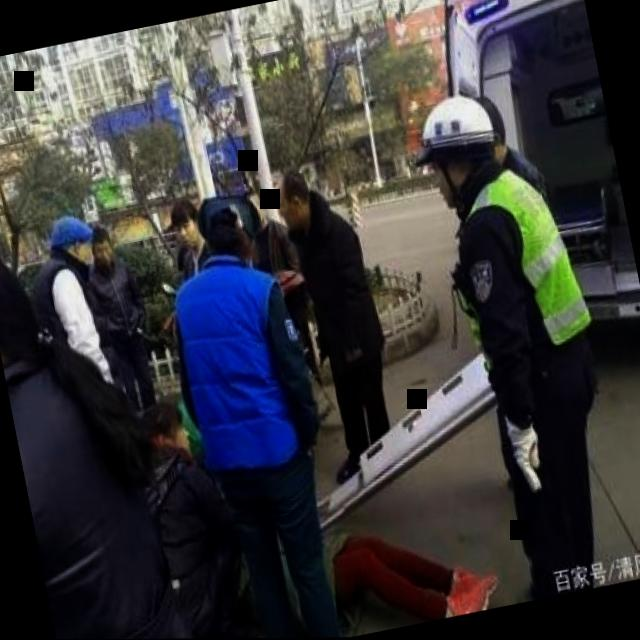Fall-Detected: (235, 493, 496, 639)
